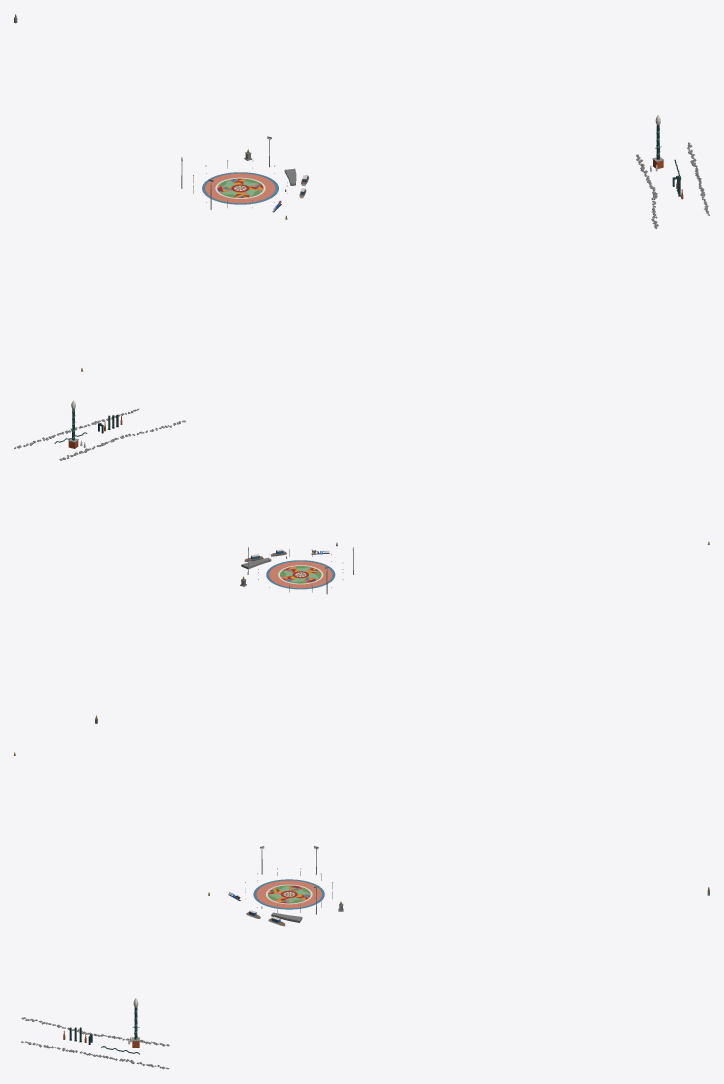
The model's file is MARCO_ZERO.fbx.
3 renders of one model, top to bottom at view 1: azimuth 30°, elevation 25°; view 2: azimuth 150°, elevation 25°; view 3: azimuth 270°, elevation 25°, orthographic. The views are drawn at different scales.
Parts seen in each view (by area): view 1: RosaDosVentos, Pedras_Arrecife; view 2: RosaDosVentos, Pedras_Arrecife; view 3: RosaDosVentos, Pedras_Arrecife.
Part boxes in pixels (left/top/right/bottom): RosaDosVentos: left=202, top=172, right=278, bottom=204; Pedras_Arrecife: left=636, top=142, right=709, bottom=228; RosaDosVentos: left=266, top=560, right=335, bottom=589; Pedras_Arrecife: left=14, top=408, right=185, bottom=460; RosaDosVentos: left=253, top=879, right=324, bottom=909; Pedras_Arrecife: left=21, top=1017, right=169, bottom=1069.
Size of the model in its own units: 443 by 33.75 by 416.
